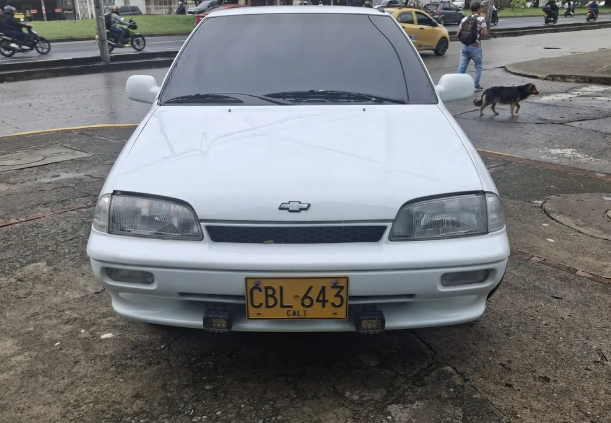placa: (244, 277, 350, 321)
